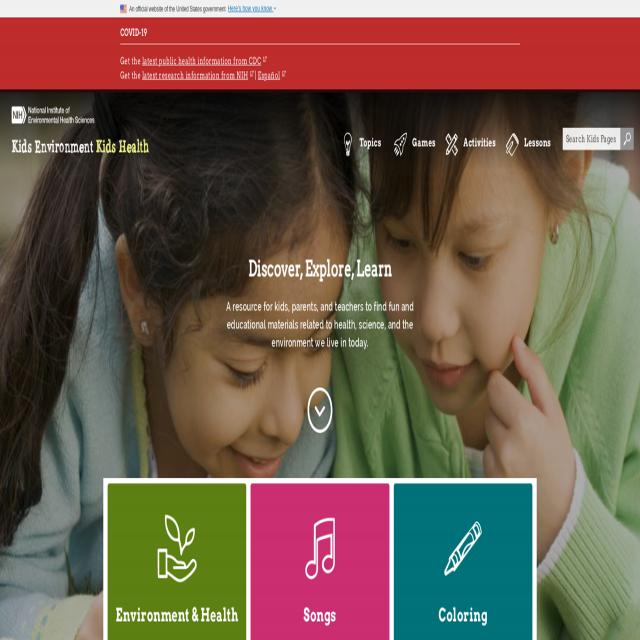button: (156, 511, 198, 586), (299, 511, 341, 586), (442, 511, 484, 586), (296, 386, 344, 433), (506, 136, 558, 170), (341, 136, 393, 170), (394, 136, 446, 170), (445, 136, 497, 170), (228, 4, 278, 14), (622, 129, 634, 151), (120, 3, 126, 14)
field: (563, 126, 621, 151)
